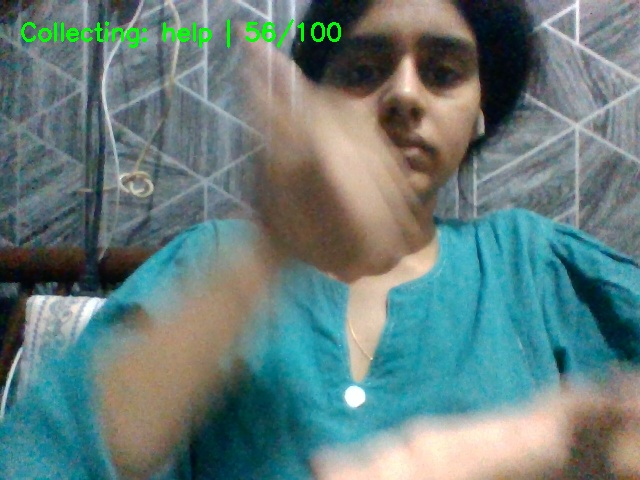help: (215, 29, 621, 480)
